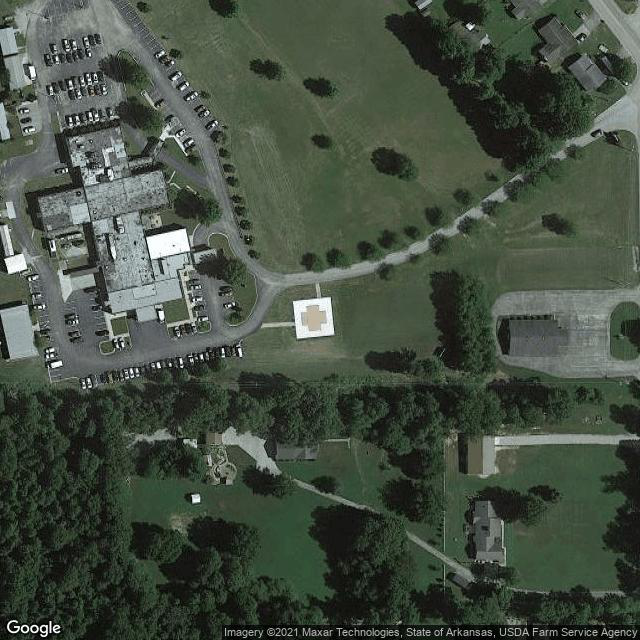Helipad: (295, 299, 333, 334)
